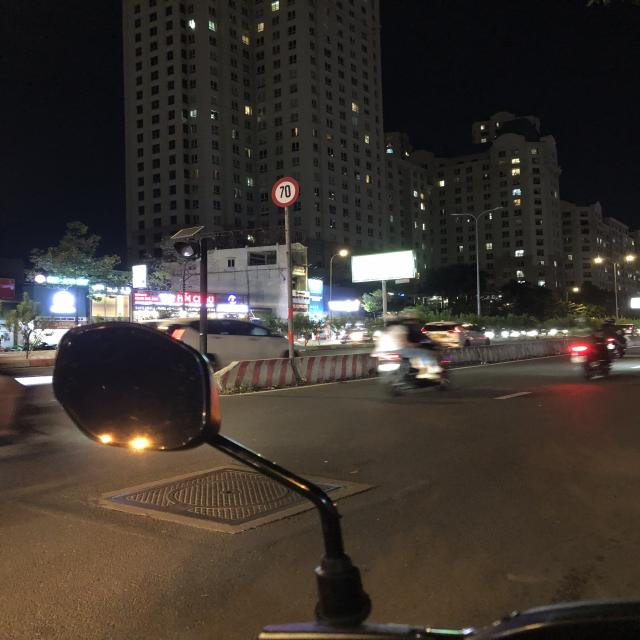Bien bao toc do toi da cho phep: (265, 175, 306, 208)
